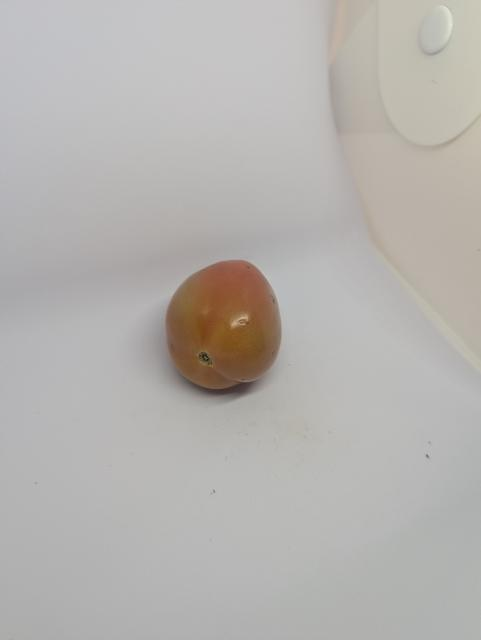turning: (163, 257, 290, 400)
